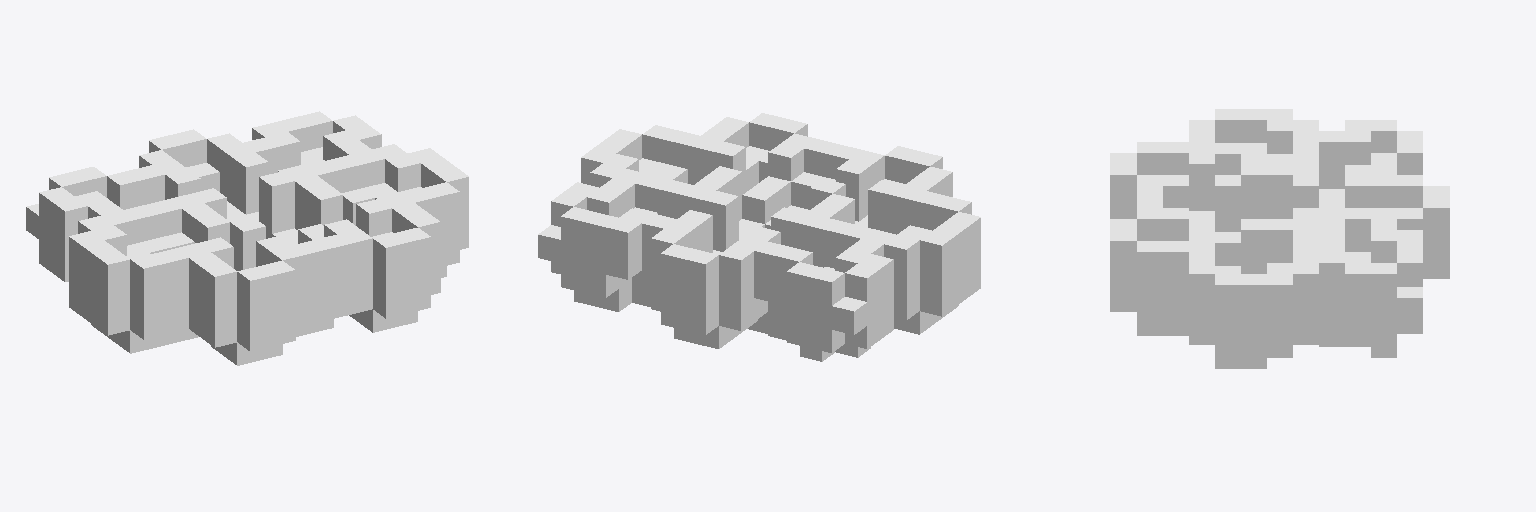
The model's file is Bush_cracked.obj.
3 renders of one model, left to right at view 1: azimuth 30°, elevation 25°; view 2: azimuth 150°, elevation 25°; view 3: azimuth 270°, elevation 25°, orthographic.
Parts seen in each view (by area): view 1: DestroyablePlant.003, DestroyablePlant.002, DestroyablePlant.001, DestroyablePlant; view 2: DestroyablePlant.002, DestroyablePlant.001, DestroyablePlant.003, DestroyablePlant; view 3: DestroyablePlant.002, DestroyablePlant.003, DestroyablePlant.001, DestroyablePlant.
Part boxes in pixels (left/top/right/bottom): DestroyablePlant.003: left=130, top=177, right=468, bottom=365; DestroyablePlant.002: left=149, top=111, right=468, bottom=244; DestroyablePlant.001: left=26, top=141, right=226, bottom=281; DestroyablePlant: left=69, top=203, right=264, bottom=352; DestroyablePlant.002: left=538, top=129, right=792, bottom=348; DestroyablePlant.001: left=706, top=207, right=941, bottom=361; DestroyablePlant.003: left=642, top=113, right=970, bottom=234; DestroyablePlant: left=807, top=179, right=980, bottom=333; DestroyablePlant.002: left=1215, top=186, right=1449, bottom=368; DestroyablePlant.003: left=1110, top=120, right=1239, bottom=344; DestroyablePlant.001: left=1293, top=120, right=1422, bottom=232; DestroyablePlant: left=1215, top=109, right=1344, bottom=251.
Size of the model in its own units: 1.6 by 0.5 by 1.3.